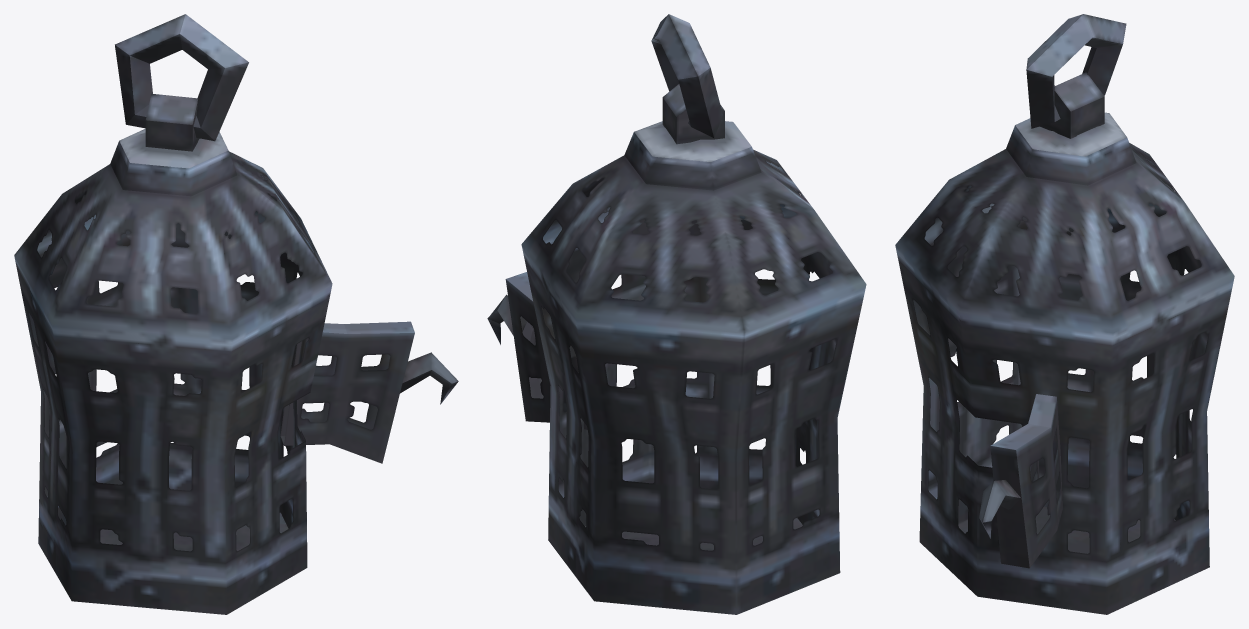
Rendered from mine_birdcage01.fbx.
3 renders of one model, left to right at view 1: azimuth 30°, elevation 25°; view 2: azimuth 150°, elevation 25°; view 3: azimuth 270°, elevation 25°, orthographic. The views are drawn at different scales.
Parts seen in each view (by area): view 1: mine_birdcage01; view 2: mine_birdcage01; view 3: mine_birdcage01.
Boxes of the visible parts, <box> form: mine_birdcage01: <box>14,14,458,614</box>; mine_birdcage01: <box>487,14,866,614</box>; mine_birdcage01: <box>895,14,1234,614</box>.
Bounding box in the file's own units: 1.13 × 1.49 × 0.8368.
